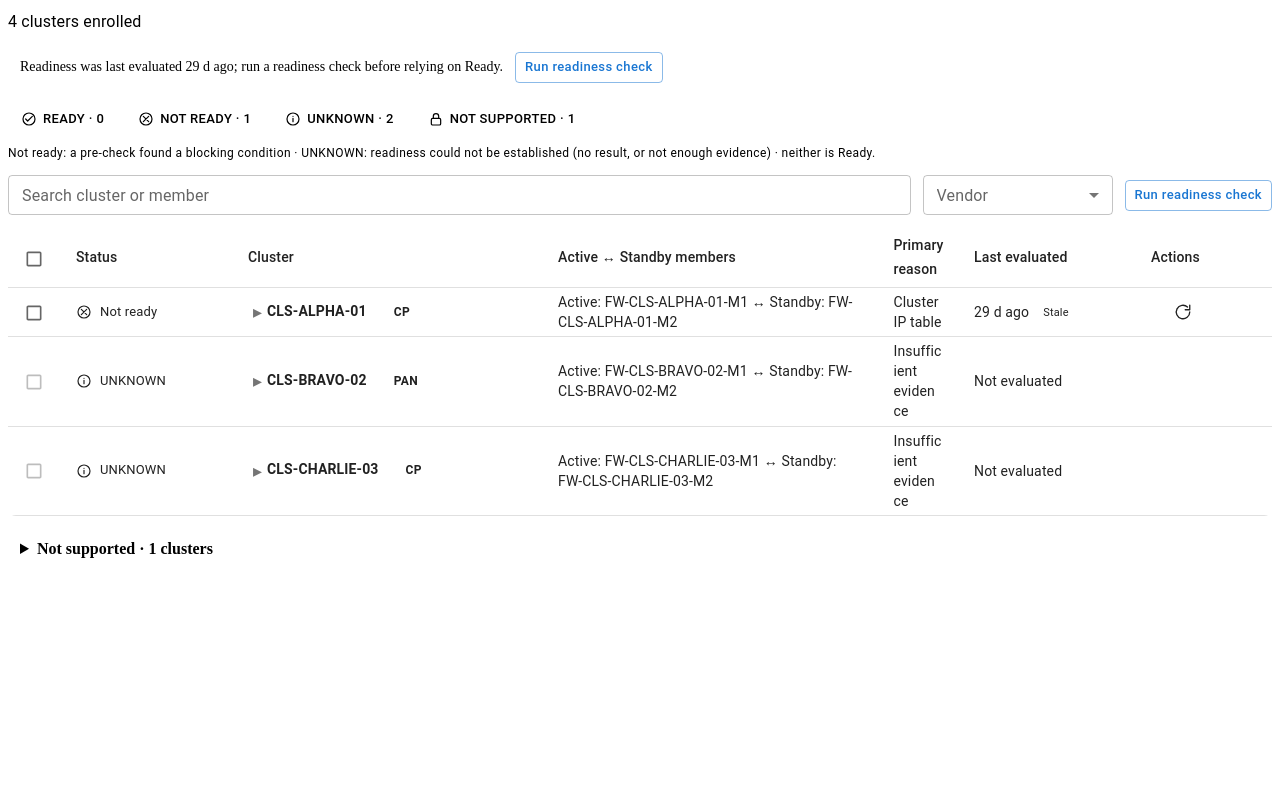
Test case: shows both observed members in inline details and wraps long messages
Click the row "CLS-ALPHA-01".
click(640, 312)  # box x1=8 y1=288 x2=1272 y2=337
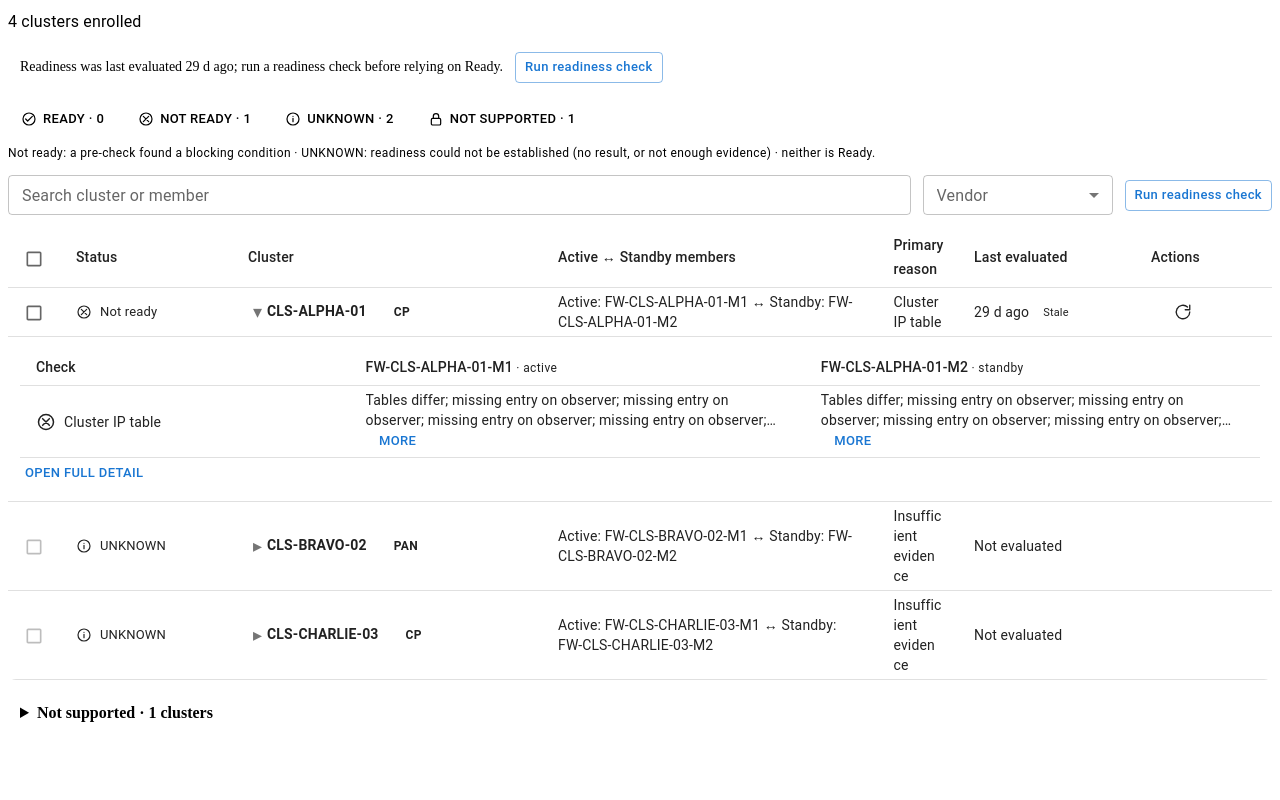
Expected: the column headings read "Check", "FW-CLS-ALPHA-01-M1 · active", "FW-CLS-ALPHA-01-M2 · standby", in this order, x1=20 y1=349 x2=350 y2=386; x1=350 y1=349 x2=805 y2=386; x1=805 y1=349 x2=1260 y2=386
Expected: the number of elements with class "readiness-message" is 2, x1=366 y1=390 x2=789 y2=430; x1=821 y1=390 x2=1244 y2=430
